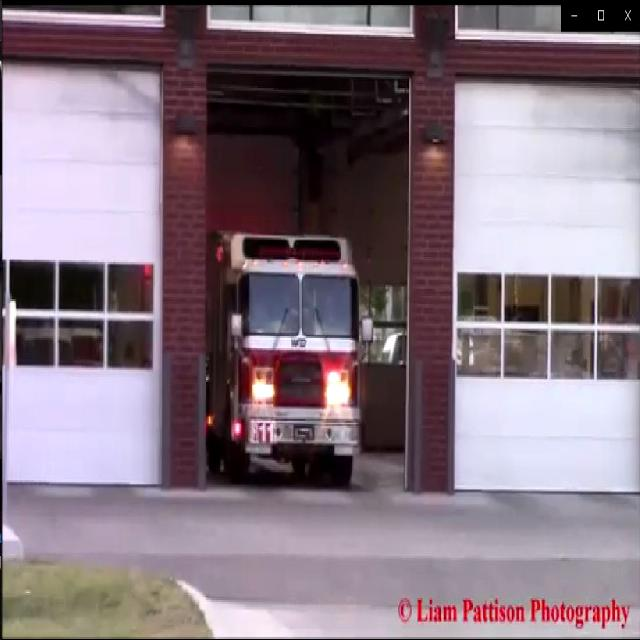emergency: (210, 226, 376, 494)
